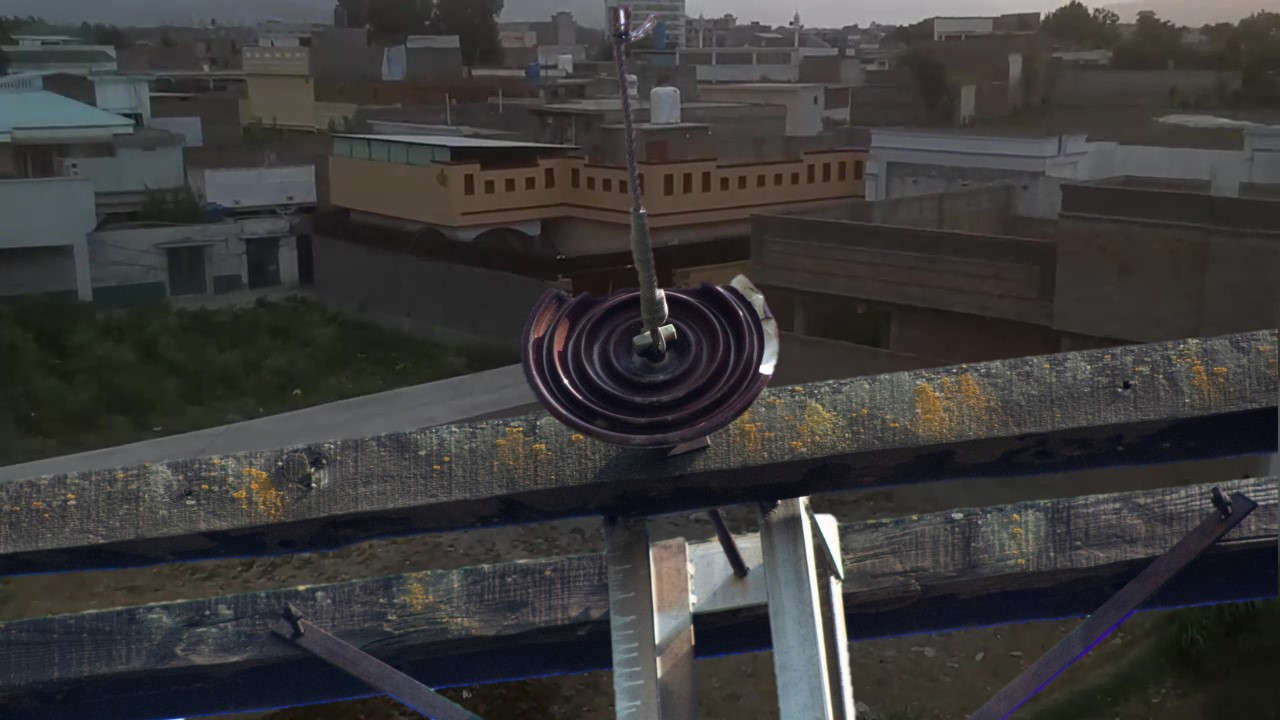defect_disc: (518, 262, 797, 451)
